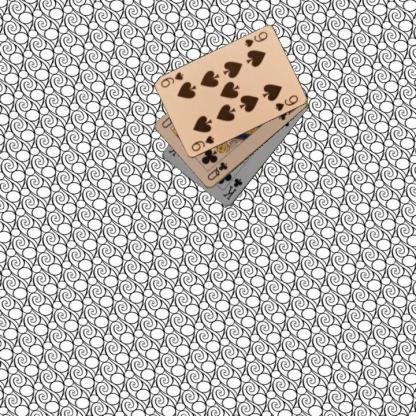9s: (188, 133, 216, 153), (242, 29, 269, 48)
Kc: (220, 176, 244, 201)
Qc: (204, 159, 229, 182)
